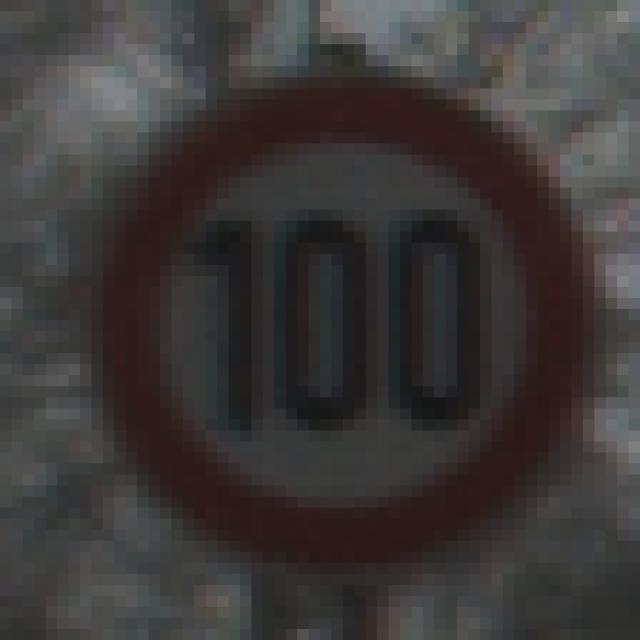speed limit 100: (55, 36, 604, 606)
